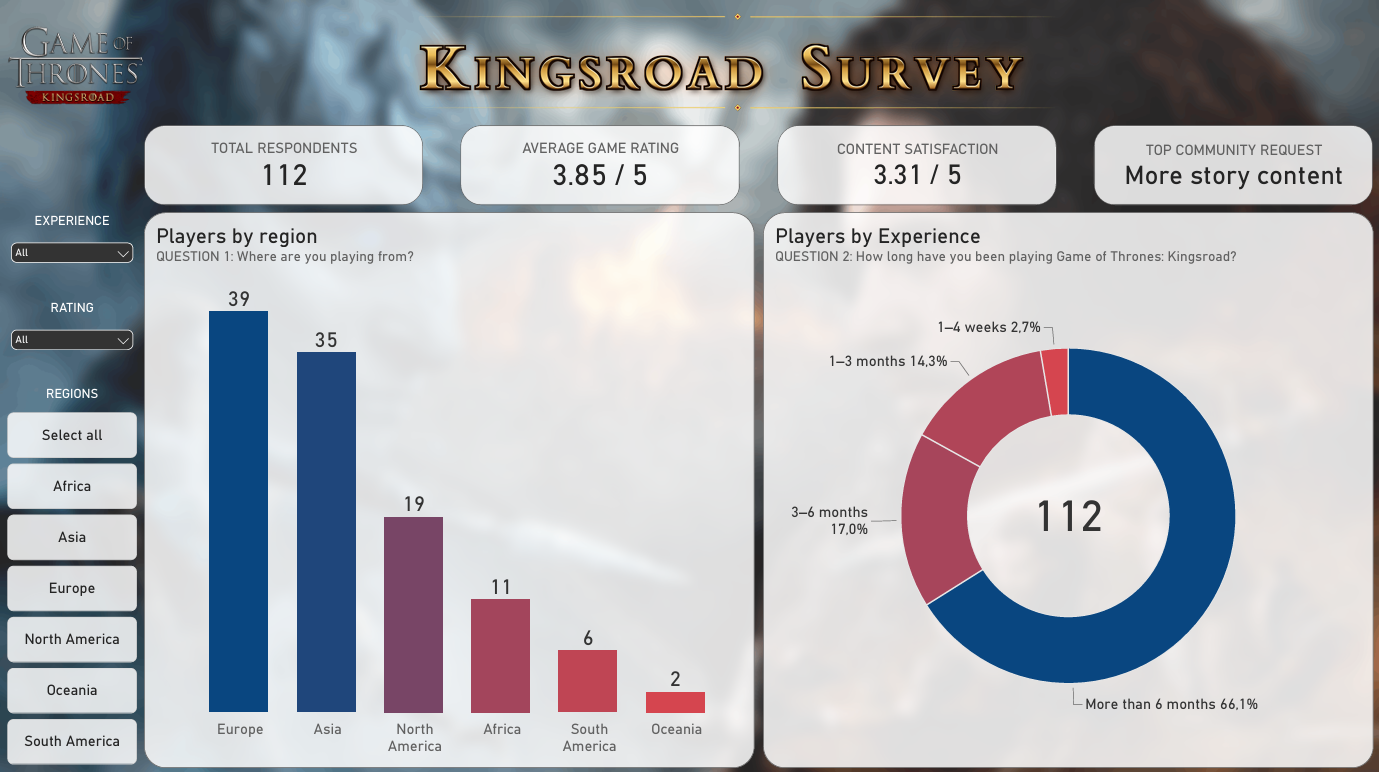

This screenshot's page, from the dashboard's own definition file:
{"tool":"powerbi","page":{"name":"Questions 1-2","canvas":[1920,1080],"ordinal":0},"visuals":[{"type":"image","box":[10.2,10.2,189.7,164.9],"z":0},{"type":"advancedSlicerVisual","title":"REGIONS","fields":{"Values":["Questions.Where are you playing from?"]},"box":[10.2,537.4,180,530],"z":1000},{"type":"image","box":[551.5,0,930,175],"z":2000},{"type":"donutChart","title":"Players by Experience","fields":{"Category":["Questions.How long have you been playing Game of Thrones: Kingsroad?"],"Y":["Formulas.Players_Count"]},"box":[1060.7,296.2,849,771.8],"z":3000},{"type":"clusteredColumnChart","title":"Players by region","fields":{"Category":["Questions.Where are you playing from?"],"Y":["Formulas.Players_Count"]},"box":[199.9,296.2,849,771.8],"z":4000},{"type":"cardVisual","fields":{"Data":["Formulas.Players_Count"]},"box":[200,175,388.3,111],"z":5000},{"type":"cardVisual","fields":{"Data":["Formulas.Avg_Game_Rating_Card"]},"box":[640.3,175,388.3,111],"z":6000},{"type":"cardVisual","fields":{"Data":["Formulas.Top_Improvement"]},"box":[1521,175.1,388.3,111],"z":7000},{"type":"cardVisual","fields":{"Data":["Formulas.Avg_Content_Rating_Card"]},"box":[1080.7,175,388.3,111],"z":8000},{"type":"slicer","title":"RATING","fields":{"Values":["Questions.Overall, how would you rate Game of Thrones: Kingsroad?"]},"box":[10,416.5,180.3,85],"z":9000},{"type":"slicer","title":"EXPERIENCE","fields":{"Values":["Questions.How long have you been playing Game of Thrones: Kingsroad?"]},"box":[10,295.7,180.3,85],"z":10000}]}

Visuals, with their boxes in screenshot pixels (x1, y1, x2, y2), scaled from the page's 1920x1080 canvas onto the 1379x772 screenshot:
image: 7,7,144,125
"REGIONS" advancedSlicerVisual: 7,384,137,763
image: 396,0,1064,125
"Players by Experience" donutChart: 762,212,1372,763
"Players by region" clusteredColumnChart: 144,212,753,763
cardVisual - Formulas.Players_Count: 144,125,423,204
cardVisual - Formulas.Avg_Game_Rating_Card: 460,125,739,204
cardVisual - Formulas.Top_Improvement: 1092,125,1371,205
cardVisual - Formulas.Avg_Content_Rating_Card: 776,125,1055,204
"RATING" slicer: 7,298,137,358
"EXPERIENCE" slicer: 7,211,137,272
